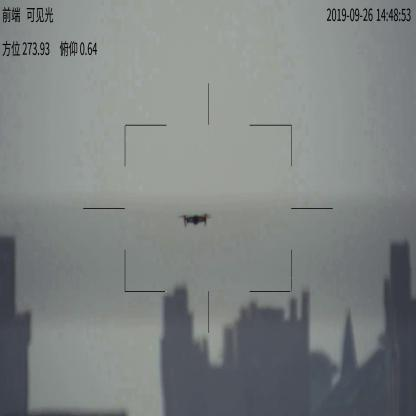uav: (178, 212, 212, 228)
